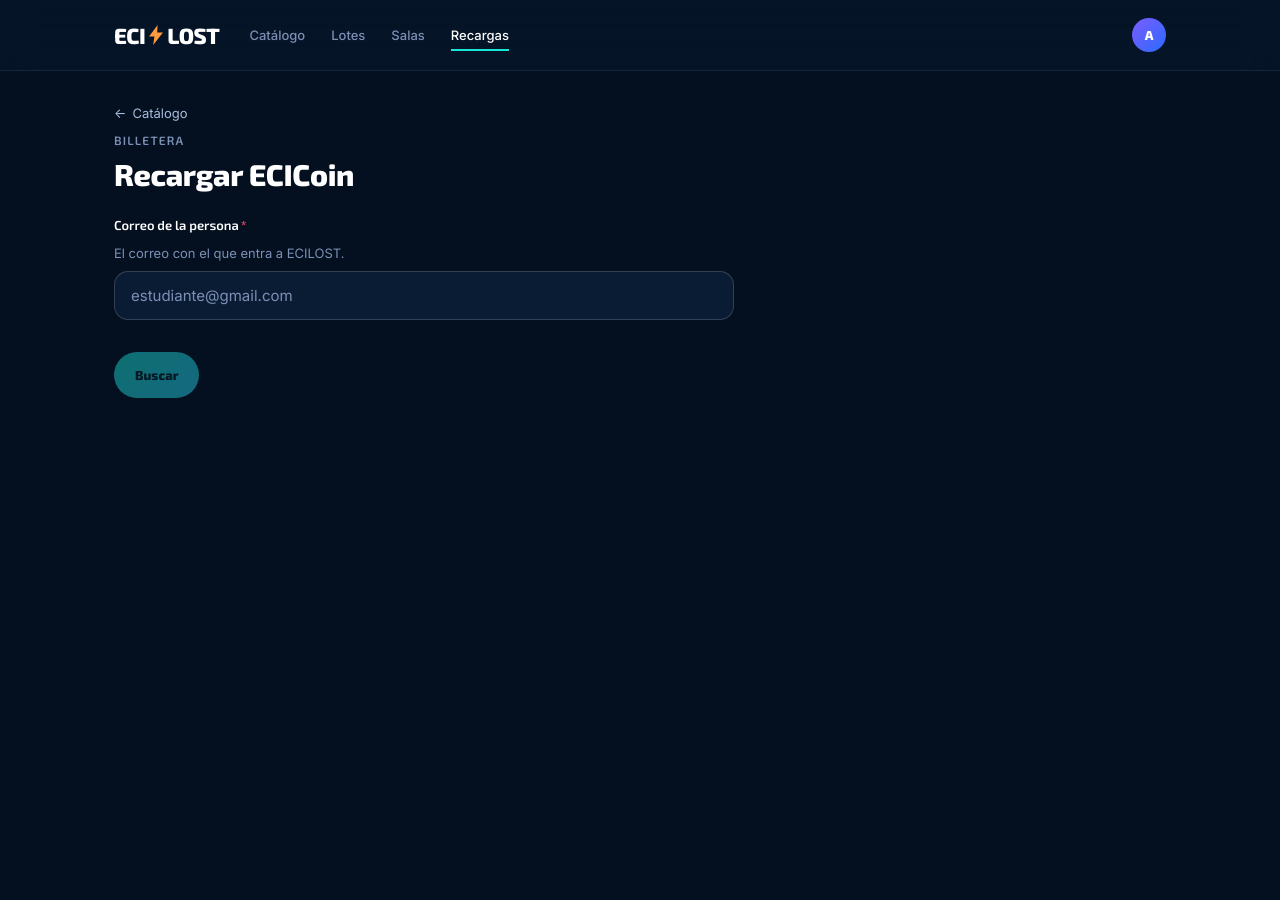
Test case: Billetera › avisa cuando la cuenta encontrada esta inactiva
In the field labelled "Correo de la persona*": (424, 296) [114, 271, 734, 320], type "suspendida@gmail.com"
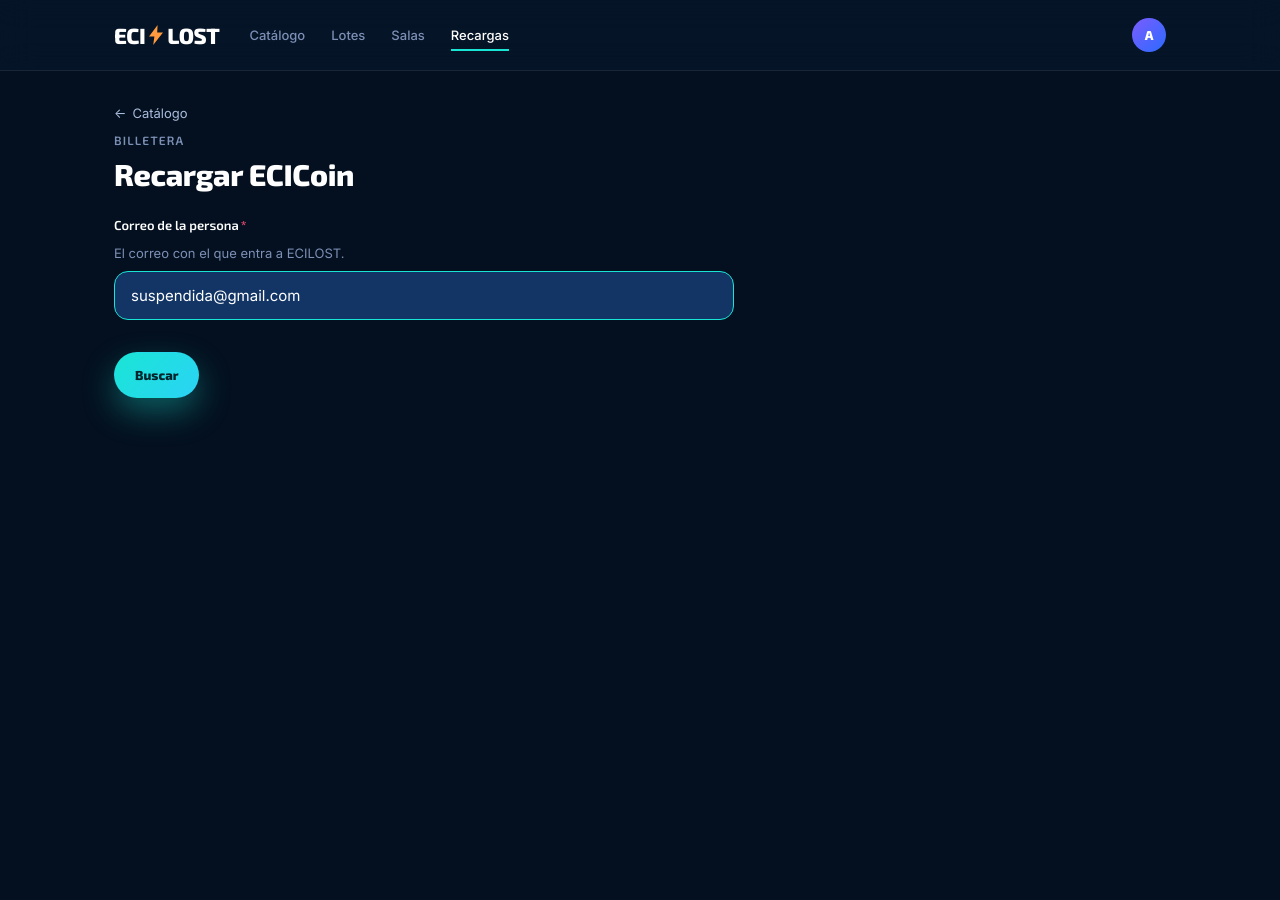
Click the button "Buscar": (157, 375) [114, 352, 199, 398]
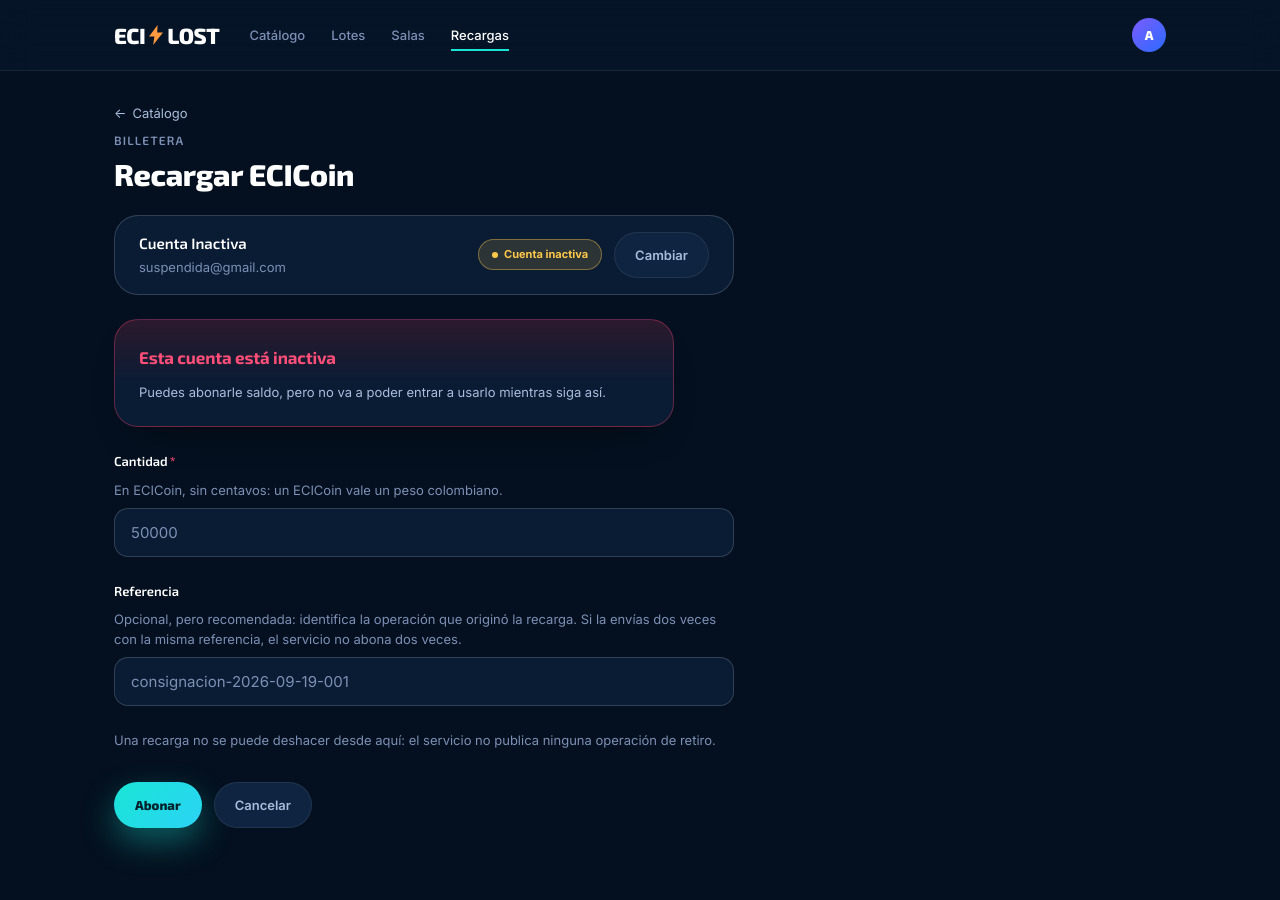
Expected: the text "Esta cuenta está inactiva" is shown, [139, 344, 336, 370]
Expected: the field labelled "Cantidad*" is shown, [114, 508, 734, 557]
